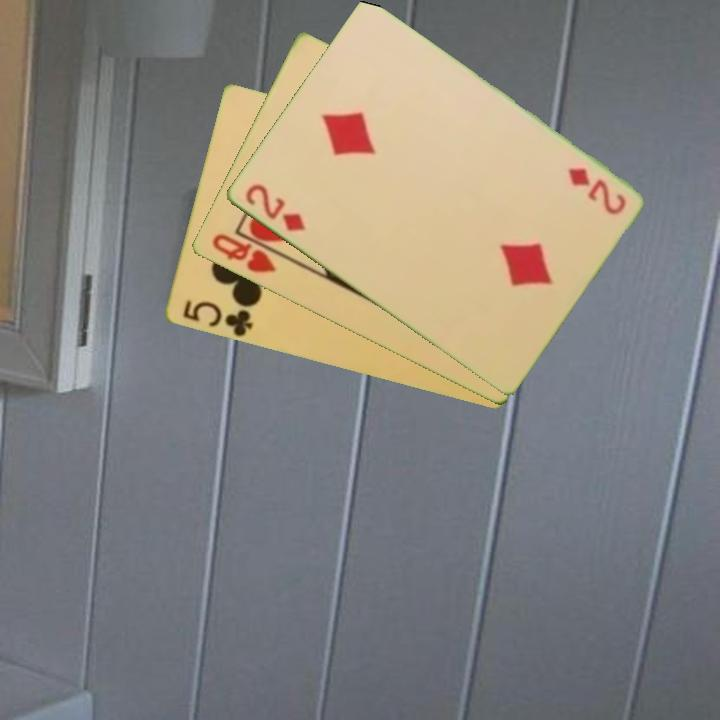2d: (241, 180, 308, 235), (564, 164, 629, 217)
5c: (178, 297, 255, 340)
Qh: (208, 230, 279, 276)
